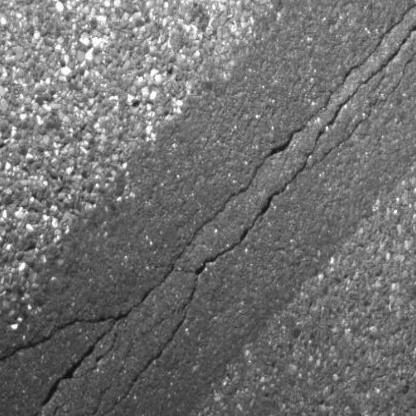Cracks: (0, 0, 416, 416), (78, 284, 202, 416), (117, 315, 168, 376), (19, 409, 45, 416)
